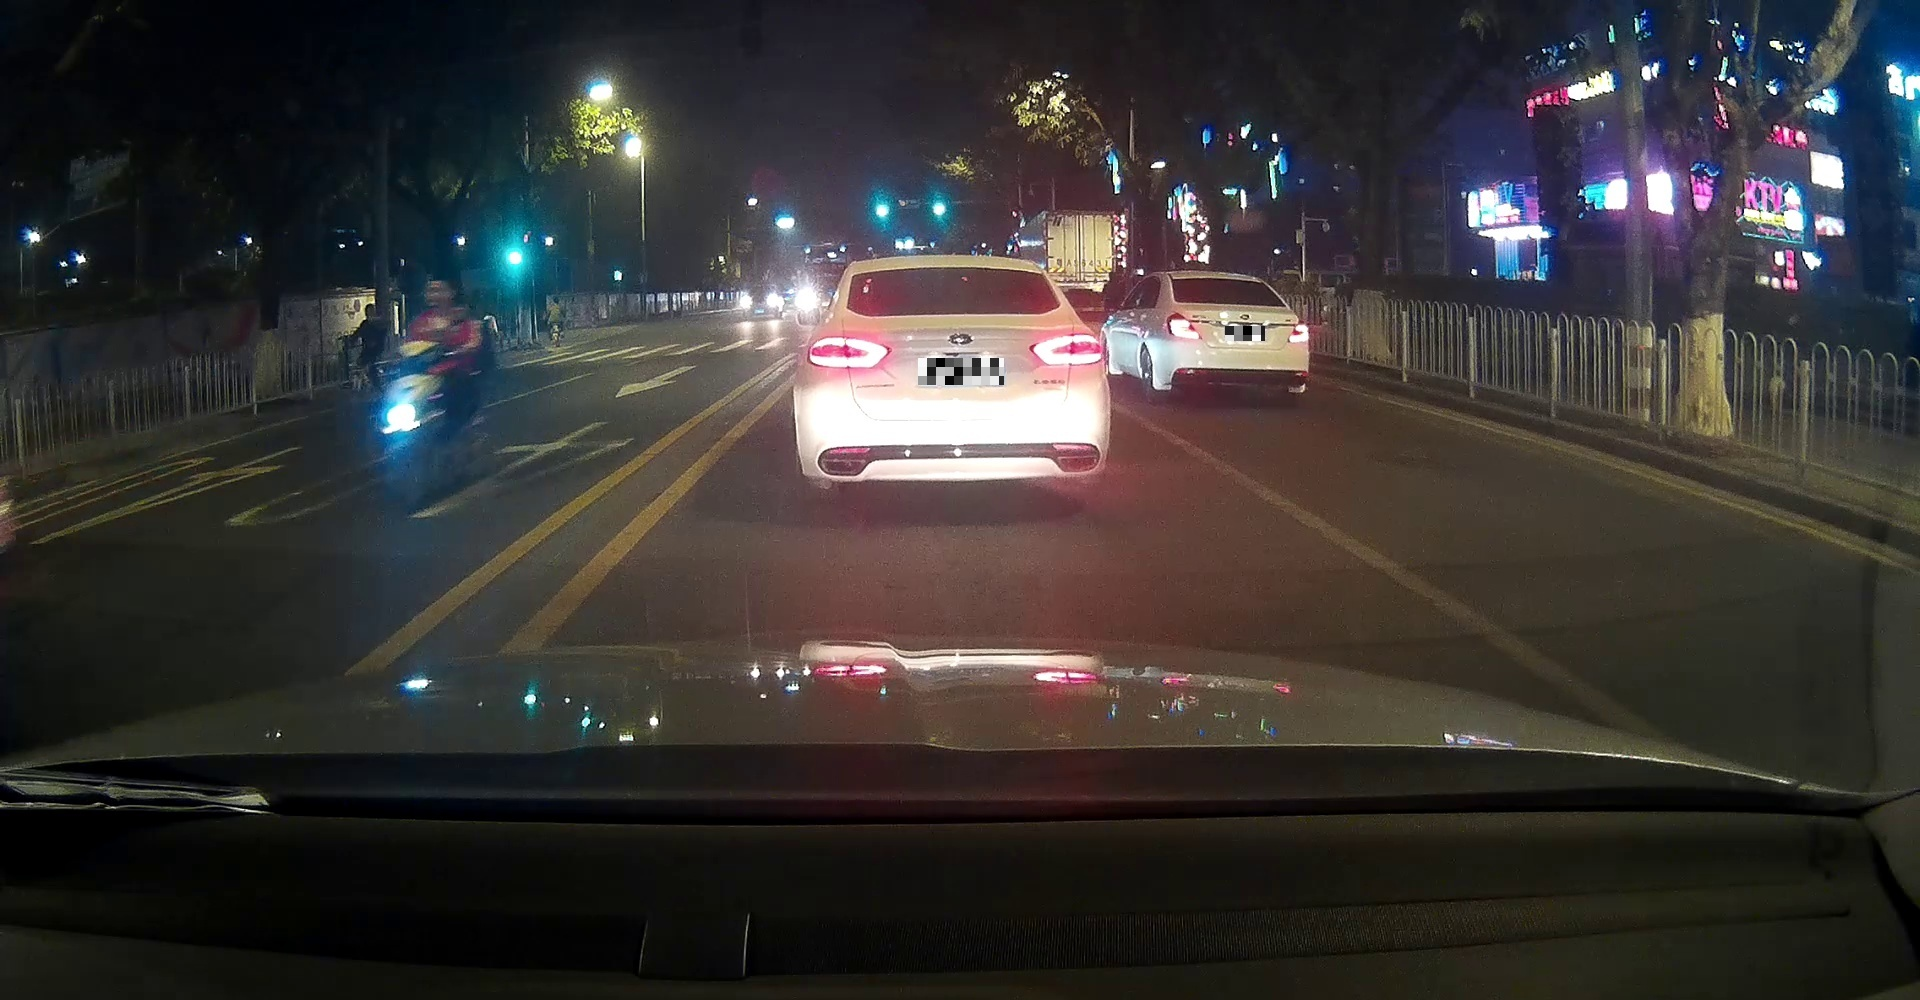L_light: (805, 334, 893, 368), (1164, 312, 1201, 339)
R_light: (1027, 332, 1103, 367), (1288, 320, 1310, 343)
T_light: (935, 264, 969, 272), (1213, 275, 1232, 280)
night-no: (795, 255, 1111, 503), (1161, 270, 1310, 398)
plate_1: (918, 358, 1004, 385)
plate_2: (1225, 326, 1265, 341)
